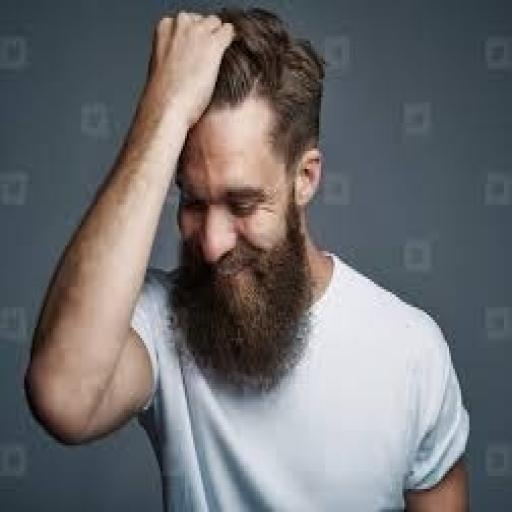laughing: (20, 0, 477, 509)
